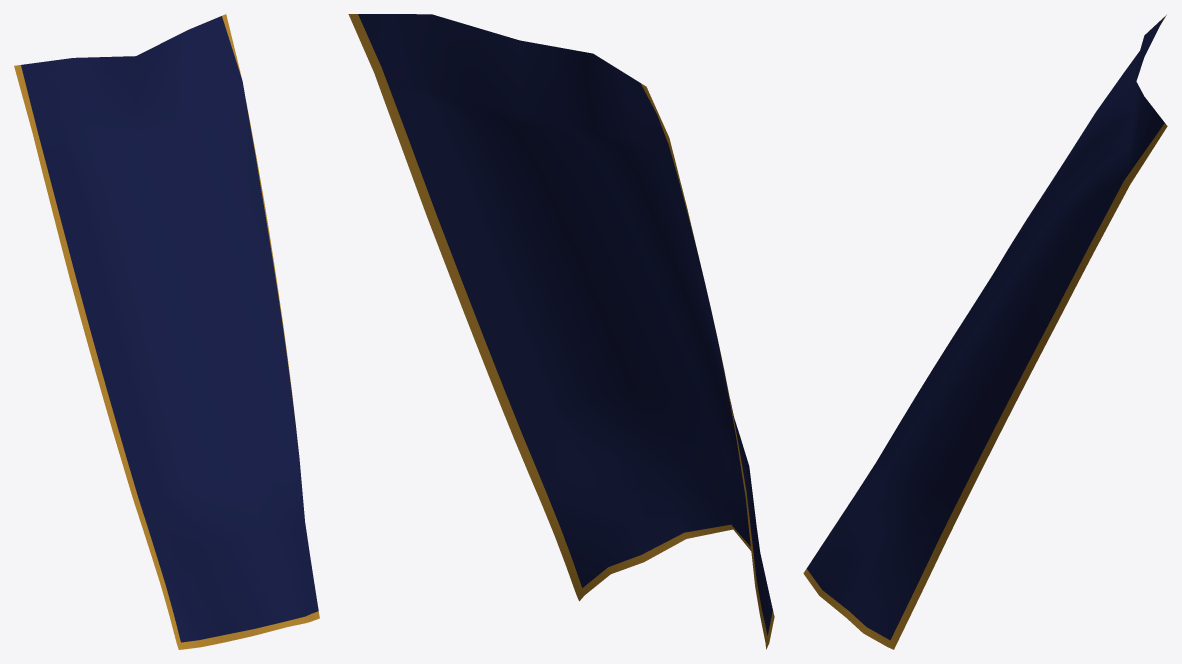
The model's file is legendary_pants_skirt_front.gltf.
3 views of the same model, side by side, from view 1: azimuth 30°, elevation 25°; view 2: azimuth 150°, elevation 25°; view 3: azimuth 270°, elevation 25° (orthographic). The views are drawn at different scales.
Parts seen in each view (by area): view 1: skirt_front; view 2: skirt_front; view 3: skirt_front.
Part boxes in pixels (left/top/right/bottom): skirt_front: left=14, top=14, right=319, bottom=649; skirt_front: left=348, top=14, right=774, bottom=649; skirt_front: left=803, top=15, right=1167, bottom=649.
Size of the model in its own units: 0.506 by 1.15 by 0.6934.
